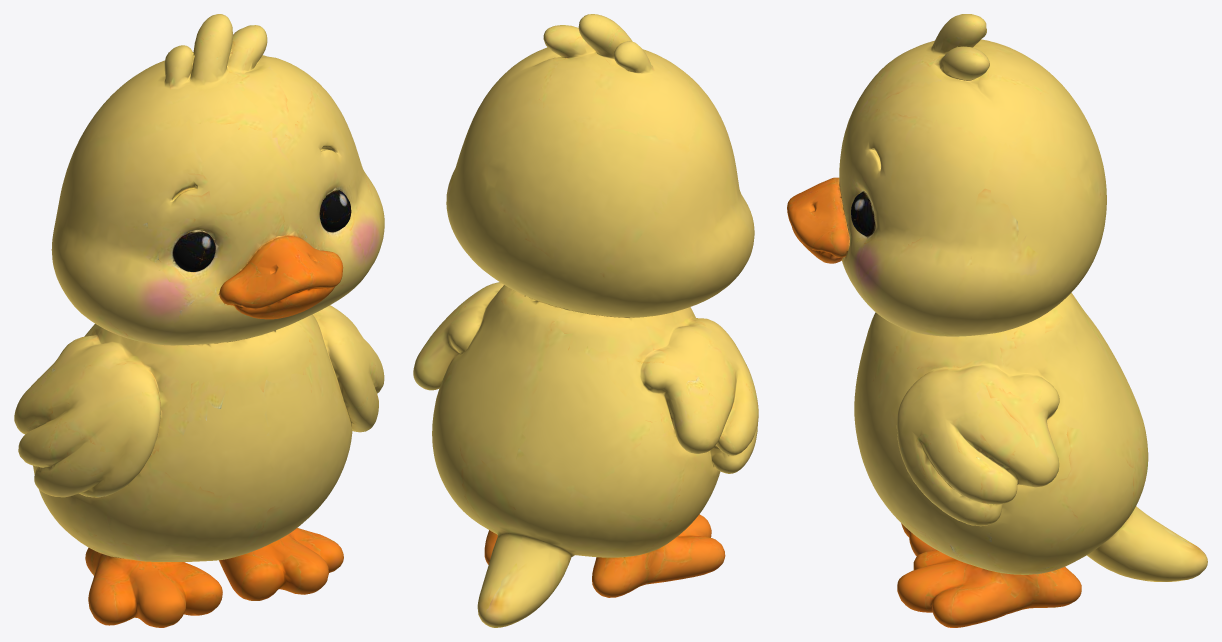
3 views of the same model, side by side, from view 1: azimuth 30°, elevation 25°; view 2: azimuth 150°, elevation 25°; view 3: azimuth 270°, elevation 25° (orthographic). The views are drawn at different scales.
Bounding box in the file's own units: 1.21 × 1.9 × 1.29.
Materials: 1 (1 with a texture image).
